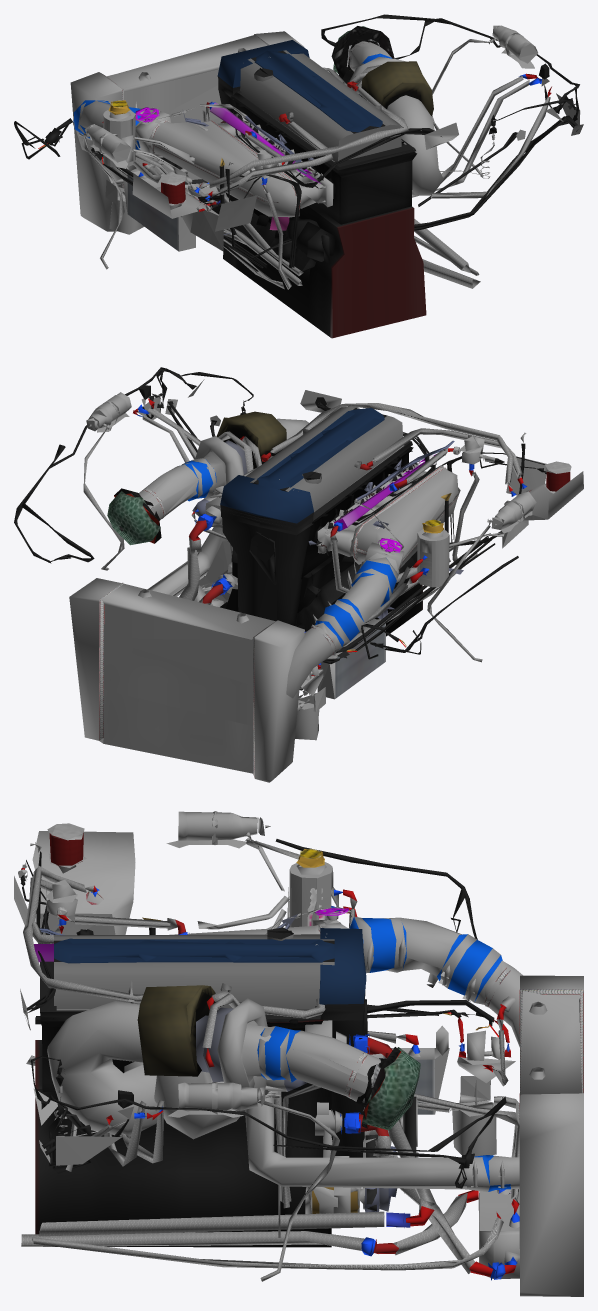
The model's file is eng-i6-30-legend.glb.
3 views of the same model, one above another, from view 1: azimuth 30°, elevation 25°; view 2: azimuth 150°, elevation 25°; view 3: azimuth 270°, elevation 25° (orthographic). The views are drawn at different scales.
Parts seen in each view (by area): view 1: Object_10; view 2: Object_10; view 3: Object_10.
Part boxes in pixels (left/top/right/bottom): Object_10: left=14, top=14, right=583, bottom=338; Object_10: left=14, top=367, right=583, bottom=782; Object_10: left=14, top=811, right=583, bottom=1296.
Bounding box in the file's own units: 1.56 × 0.7159 × 1.22.
6 materials, 6 textured.
